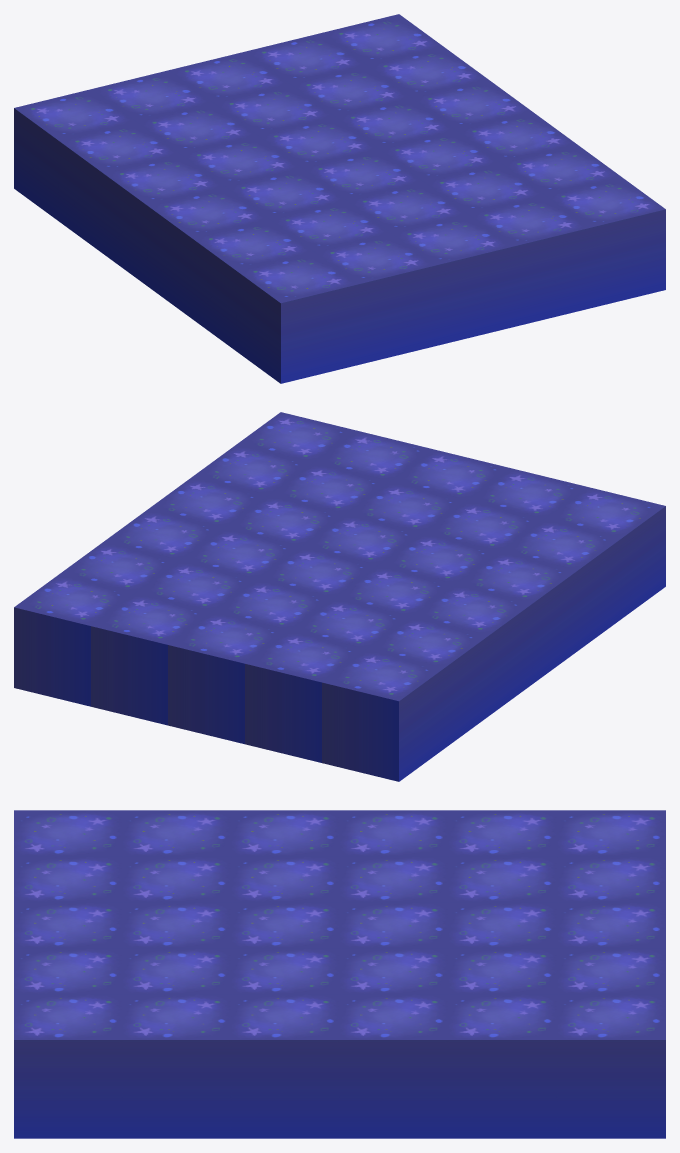
File: basetile5x6.fbx
3 renders of one model, top to bottom at view 1: azimuth 30°, elevation 25°; view 2: azimuth 150°, elevation 25°; view 3: azimuth 270°, elevation 25°, orthographic. The views are drawn at different scales.
Parts seen in each view (by area): view 1: Cube; view 2: Cube; view 3: Cube.
Part boxes in pixels (x1,y1,x2,y2): Cube: (14, 14, 665, 383); Cube: (14, 412, 665, 781); Cube: (14, 810, 665, 1138).
Size of the model in its own units: 900 by 180 by 1080.
Materials: 1 (1 with a texture image).
